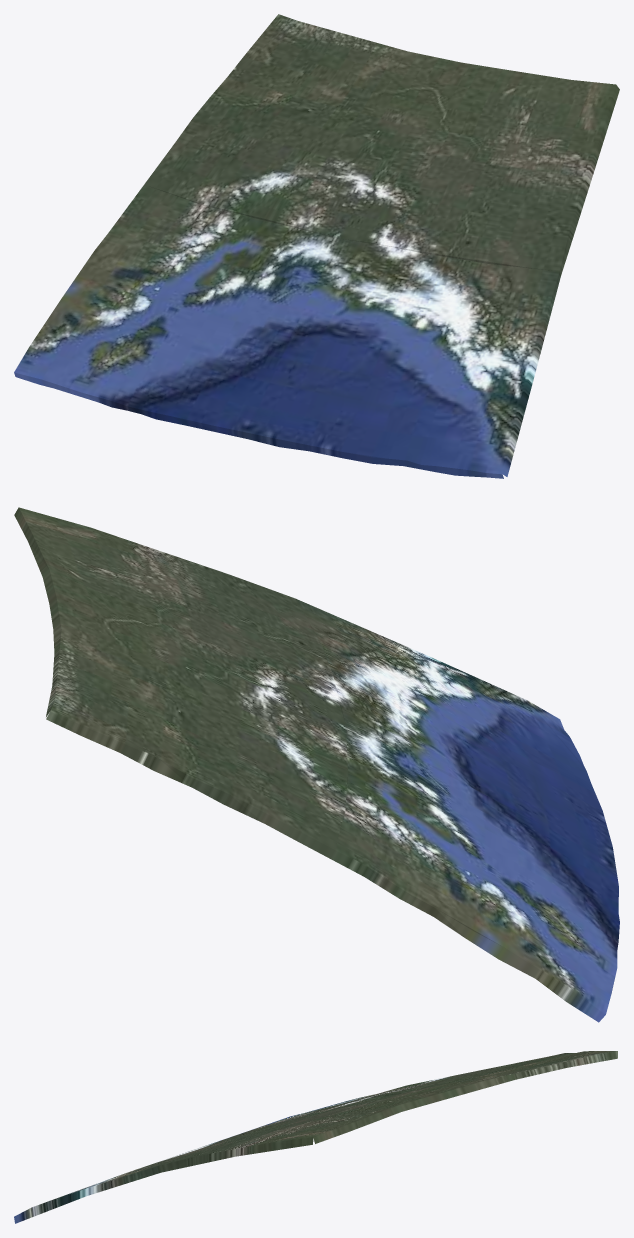
3 renders of one model, top to bottom at view 1: azimuth 30°, elevation 25°; view 2: azimuth 150°, elevation 25°; view 3: azimuth 270°, elevation 25°, orthographic. The views are drawn at different scales.
Size of the model in its own units: 1569058 by 620622 by 1586515.
Materials: 1 (1 with a texture image).
